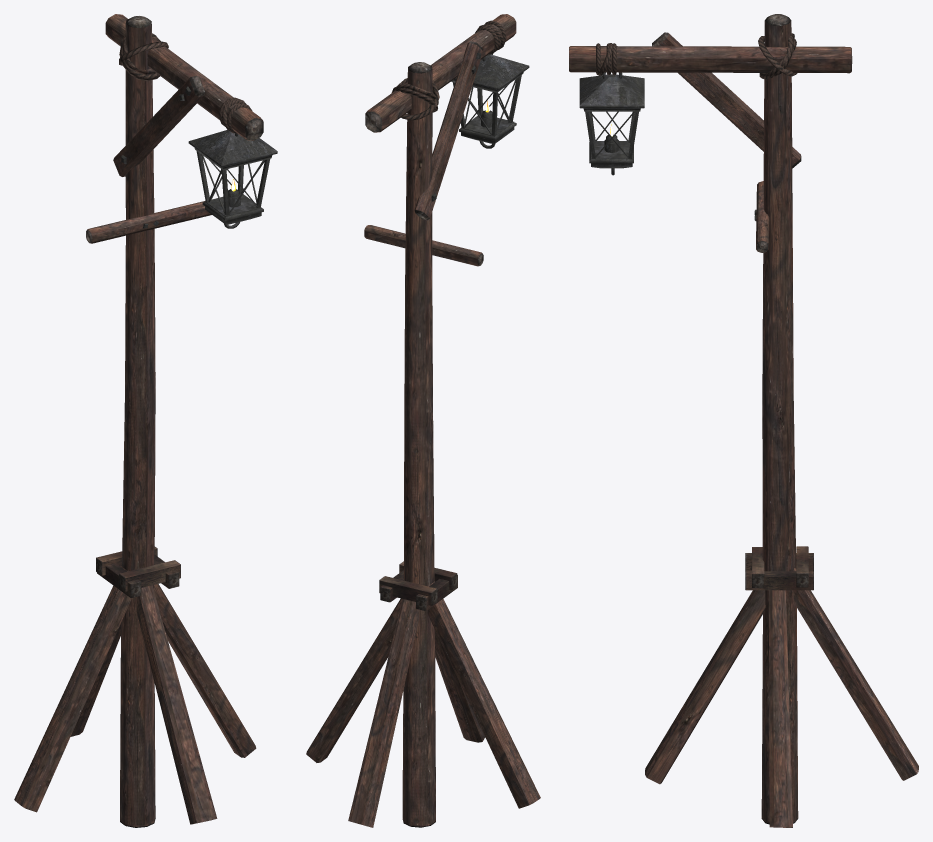
3 views of the same model, side by side, from view 1: azimuth 30°, elevation 25°; view 2: azimuth 150°, elevation 25°; view 3: azimuth 270°, elevation 25° (orthographic). The views are drawn at different scales.
Parts seen in each view (by area): view 1: LightPole; view 2: LightPole; view 3: LightPole.
Part boxes in pixels (<box>): LightPole: <box>14,14,277,827</box>; LightPole: <box>306,14,540,827</box>; LightPole: <box>569,14,918,827</box>.
Size of the model in its own units: 98.9 by 319 by 126.
2 materials, 2 textured.
